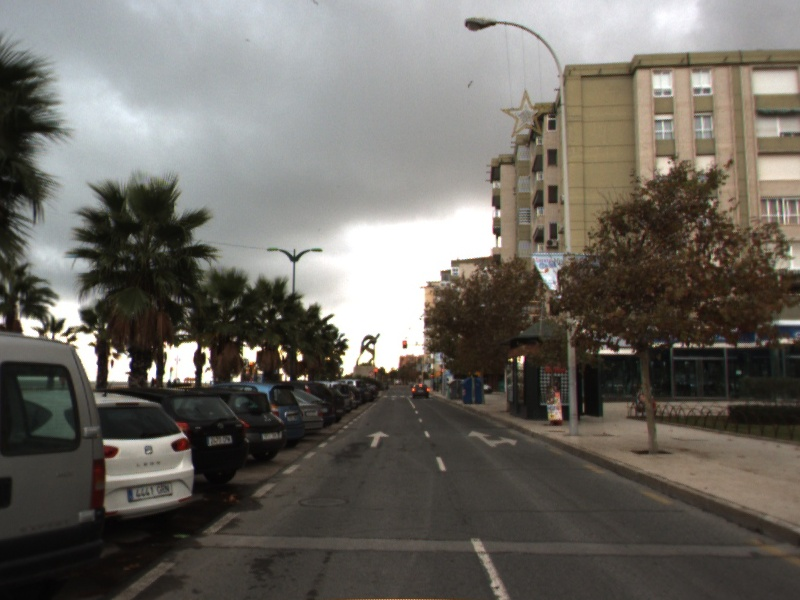STRAIGHT: (364, 429, 391, 449)
STRAIGHT_RIGHT: (466, 429, 519, 449)
